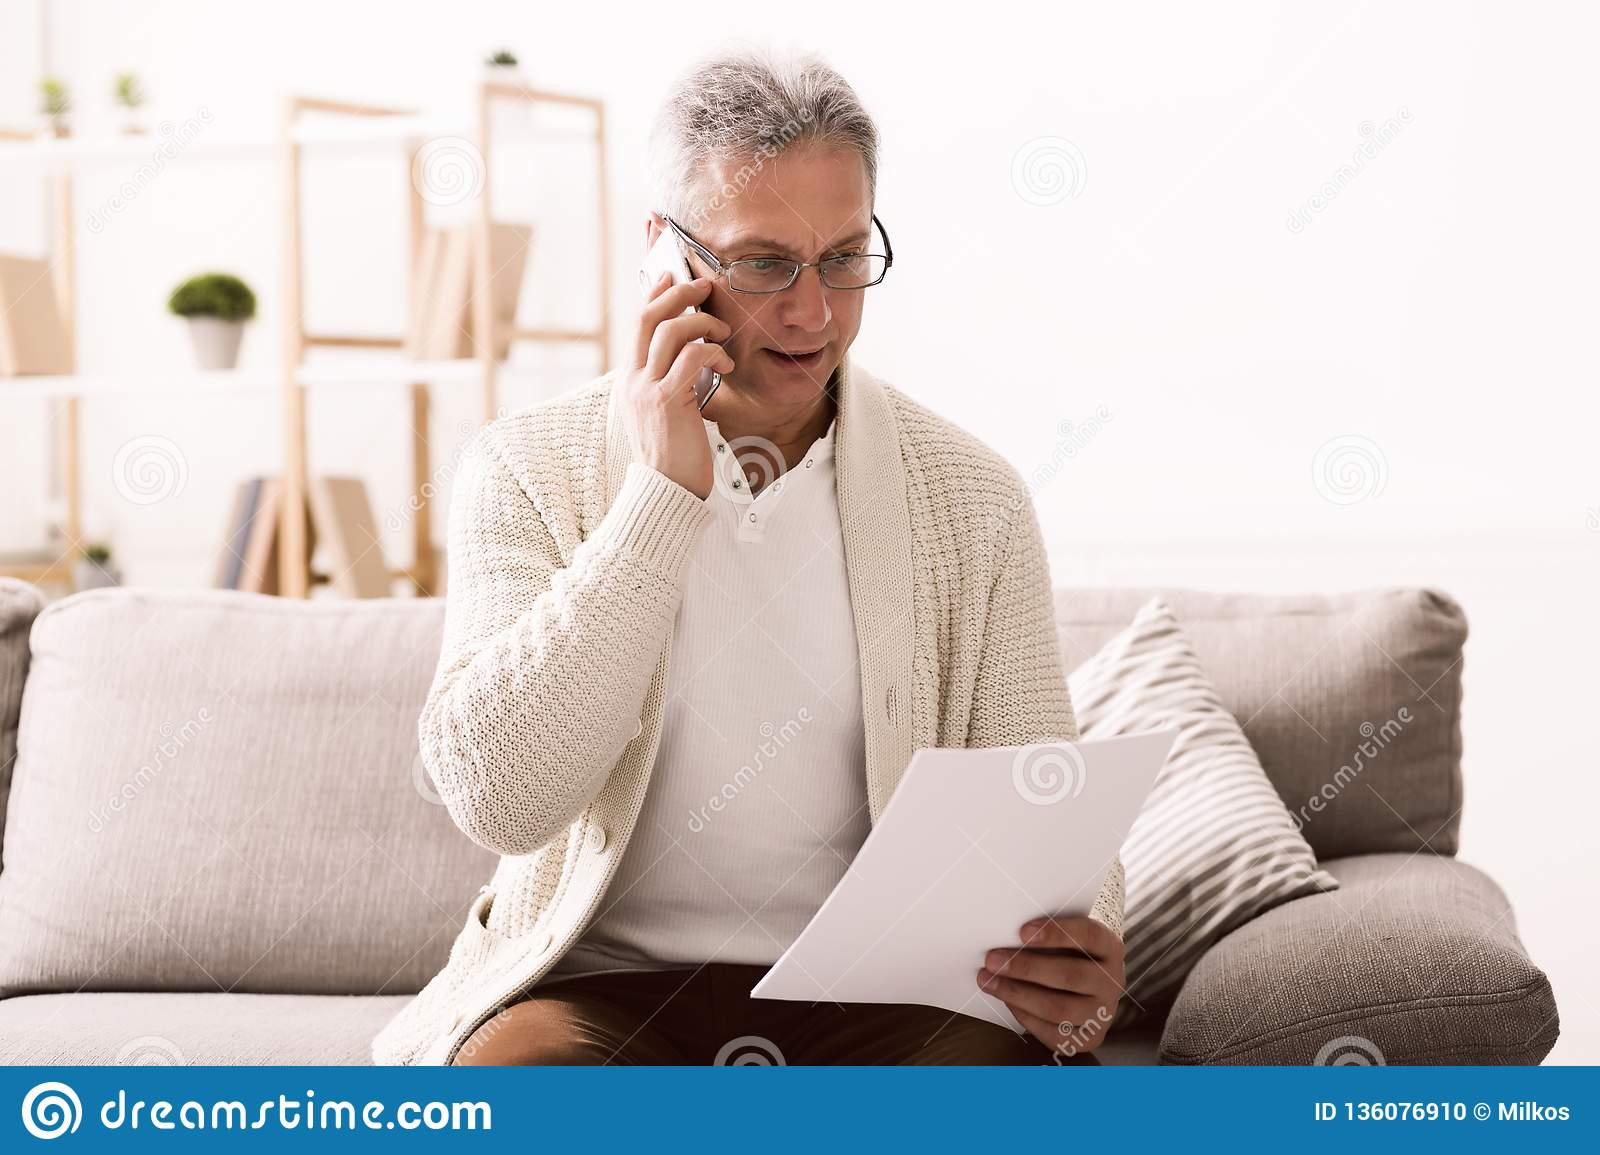phone: (635, 227, 729, 415)
talk: (624, 202, 873, 492)
